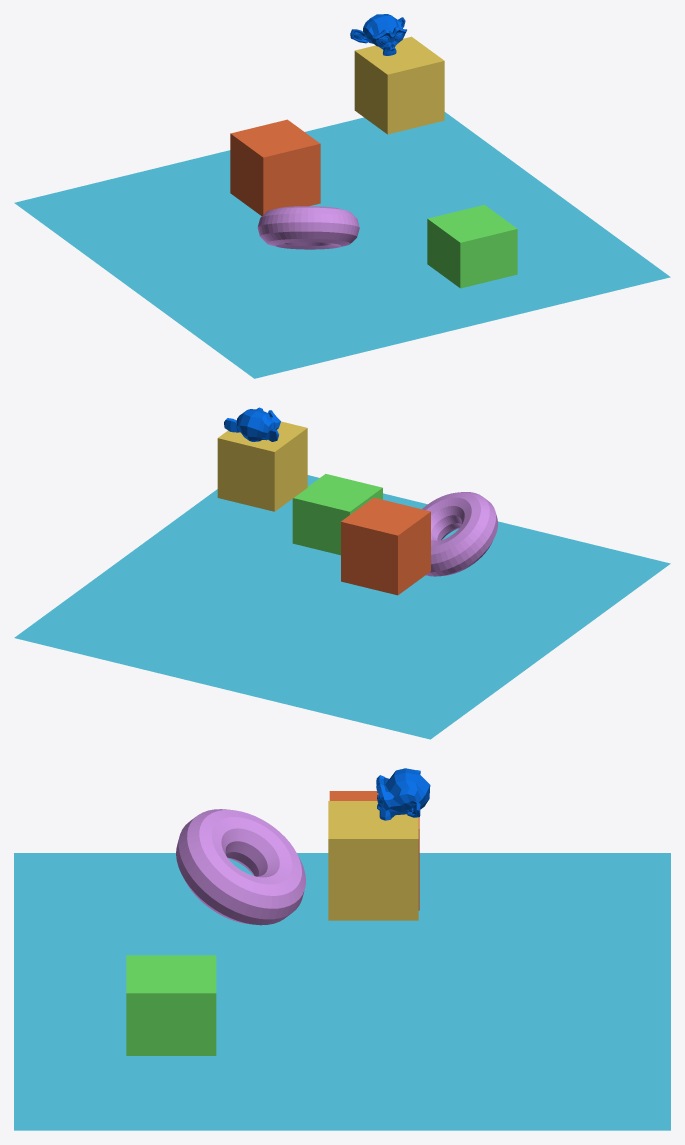
File: shadow_test.glb
The picture shows the model from 3 angles, top to bottom: view 1: azimuth 30°, elevation 25°; view 2: azimuth 150°, elevation 25°; view 3: azimuth 270°, elevation 25°; orthographic projection. The views are drawn at different scales.
Visible parts, largest first — view 1: Plane, Cube.001, Cube.002, Cube, Torus, Suzanne; view 2: Plane, Cube.001, Cube.002, Torus, Cube, Suzanne; view 3: Plane, Torus, Cube.002, Cube, Suzanne, Cube.001.
Part boxes in pixels (left/top/right/bottom): Plane: left=14, top=112, right=670, bottom=378; Cube.001: left=230, top=119, right=320, bottom=215; Cube.002: left=354, top=36, right=444, bottom=134; Cube: left=427, top=205, right=517, bottom=288; Torus: left=257, top=206, right=359, bottom=249; Suzanne: left=350, top=14, right=406, bottom=55; Plane: left=14, top=475, right=670, bottom=739; Cube.001: left=341, top=497, right=430, bottom=595; Cube.002: left=217, top=421, right=307, bottom=511; Torus: left=422, top=492, right=497, bottom=576; Cube: left=292, top=474, right=382, bottom=555; Suzanne: left=224, top=407, right=280, bottom=441; Plane: left=14, top=853, right=670, bottom=1130; Torus: left=176, top=809, right=305, bottom=925; Cube.002: left=328, top=801, right=418, bottom=920; Cube: left=126, top=955, right=216, bottom=1055; Suzanne: left=376, top=768, right=430, bottom=820; Cube.001: left=329, top=791, right=419, bottom=910.
Size of the model in its own units: 14.58 by 6.87 by 14.58.
